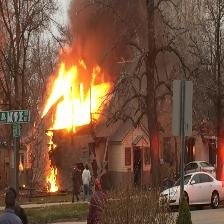fire: (56, 70, 105, 124)
smoke: (85, 4, 126, 57)
